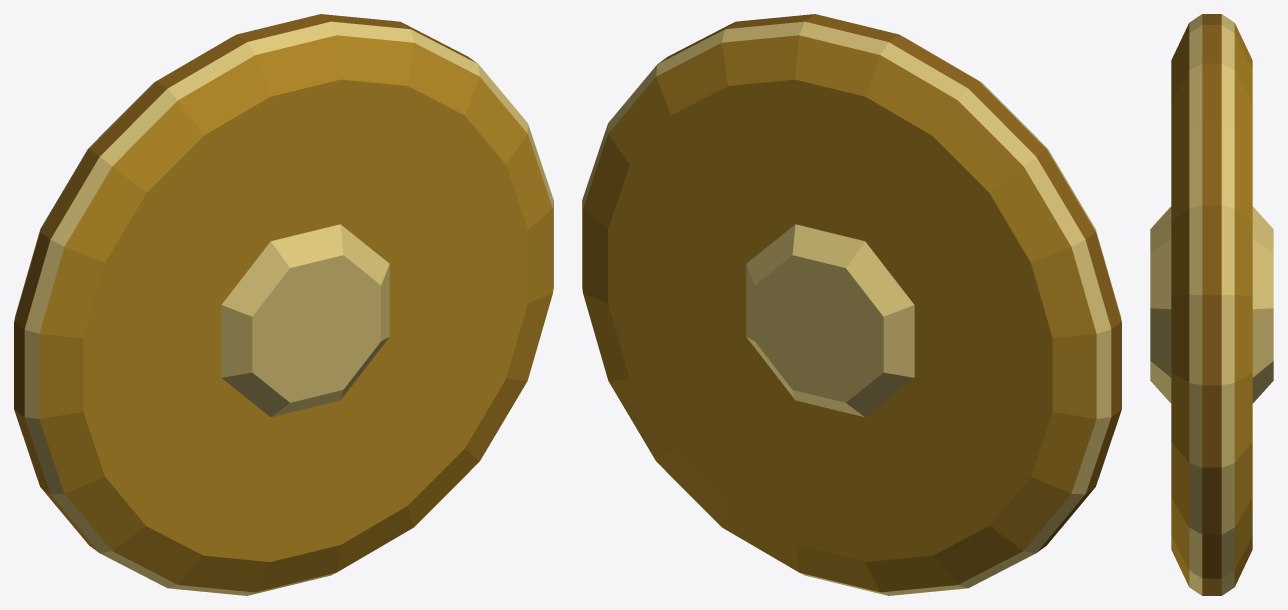
Rendered from coin.gltf.
3 views of the same model, side by side, from view 1: azimuth 30°, elevation 25°; view 2: azimuth 150°, elevation 25°; view 3: azimuth 270°, elevation 25° (orthographic). The views are drawn at different scales.
Visible parts, largest first — view 1: coin; view 2: coin; view 3: coin.
Boxes of the visible parts, <box> form: coin: <box>14,14,553,595</box>; coin: <box>582,14,1121,595</box>; coin: <box>1150,14,1273,595</box>.
Size of the model in its own units: 0.158 by 0.158 by 0.0339.
